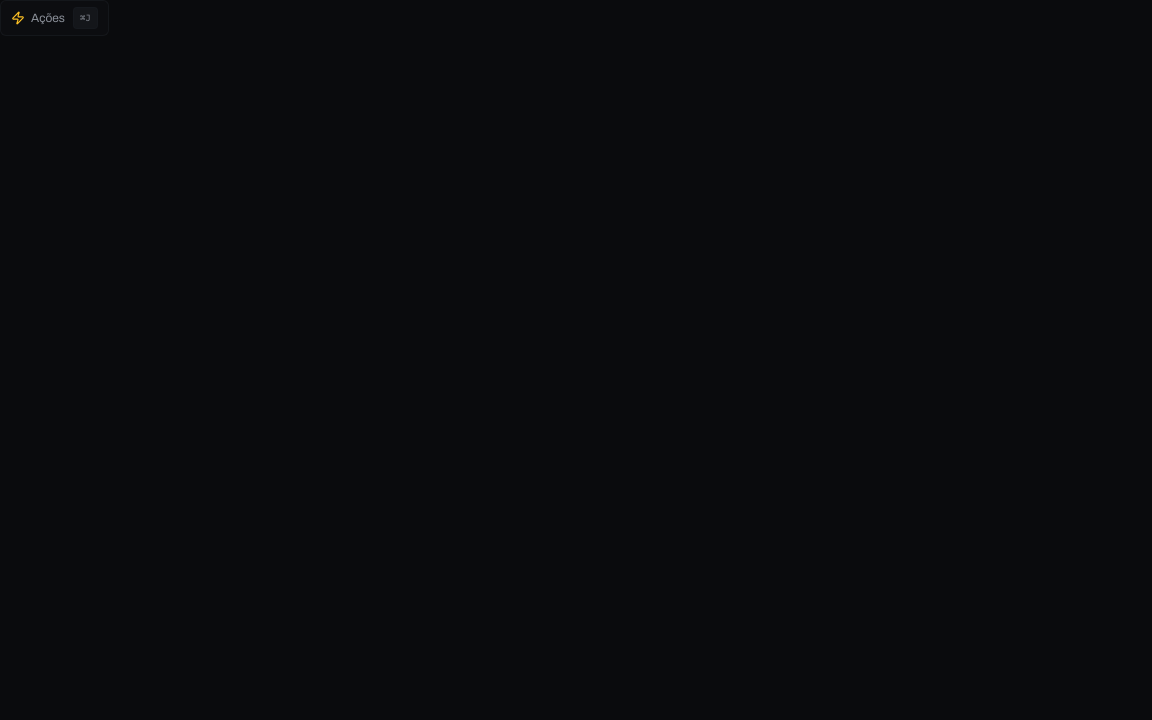
Test: ações rápidas ⌘J › telas do Laboratório aparecem em 'Ir para' ao digitar
Click the button titled "Abrir ações rápidas (Cmd+J)": x=54, y=18 [0, 0, 109, 36]
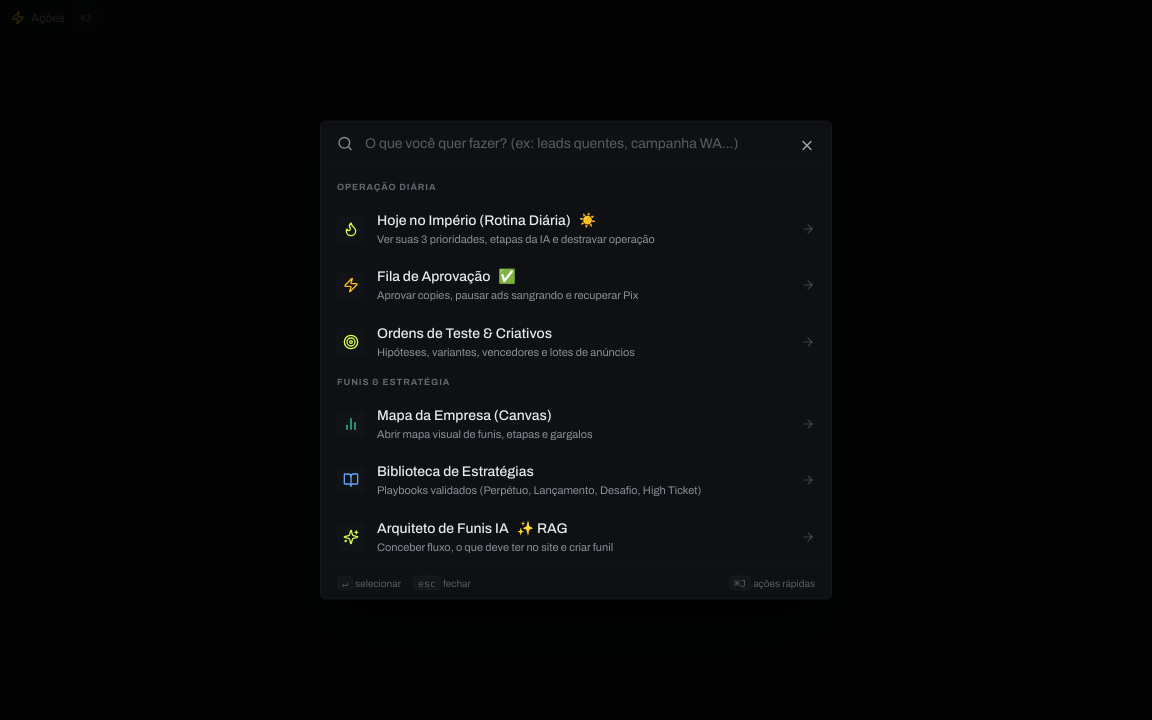
In the field with placeholder "O que você quer fazer? (ex: leads quentes, campanha WA...)": x=590, y=144 [365, 134, 815, 154], type "market"
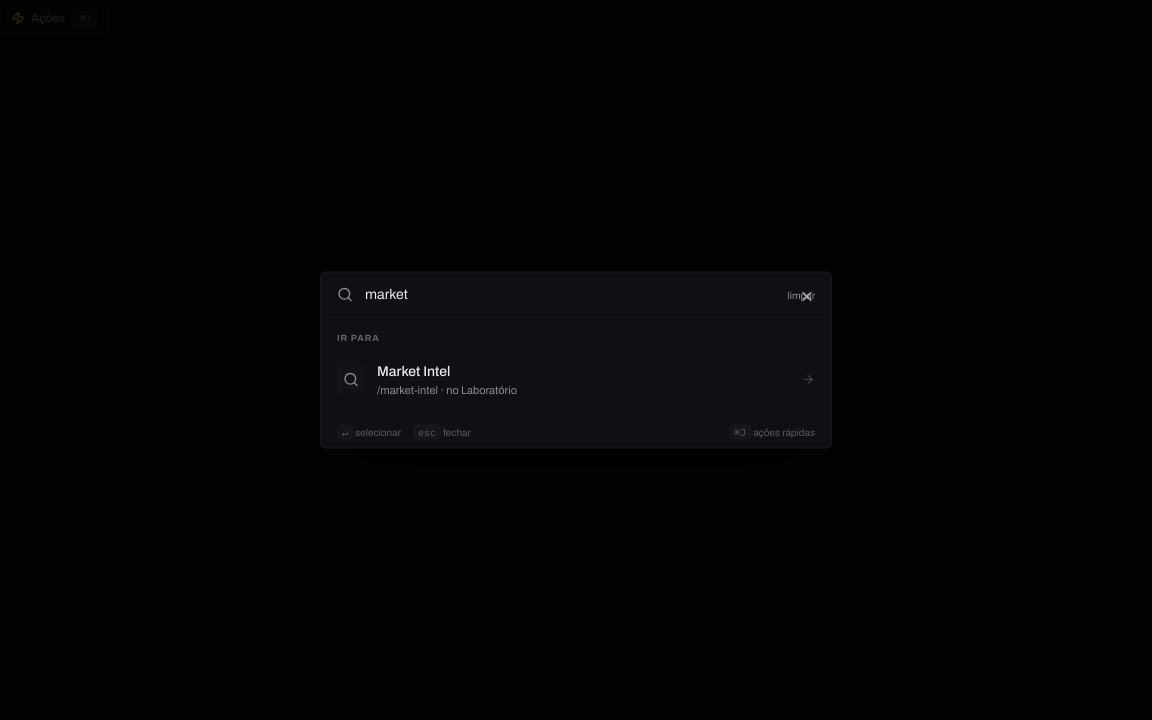
Now the text "Ir para" is shown, box [337, 332, 380, 342]
Now the text "/market-intel · no Laboratório" is shown, box [377, 383, 517, 395]
